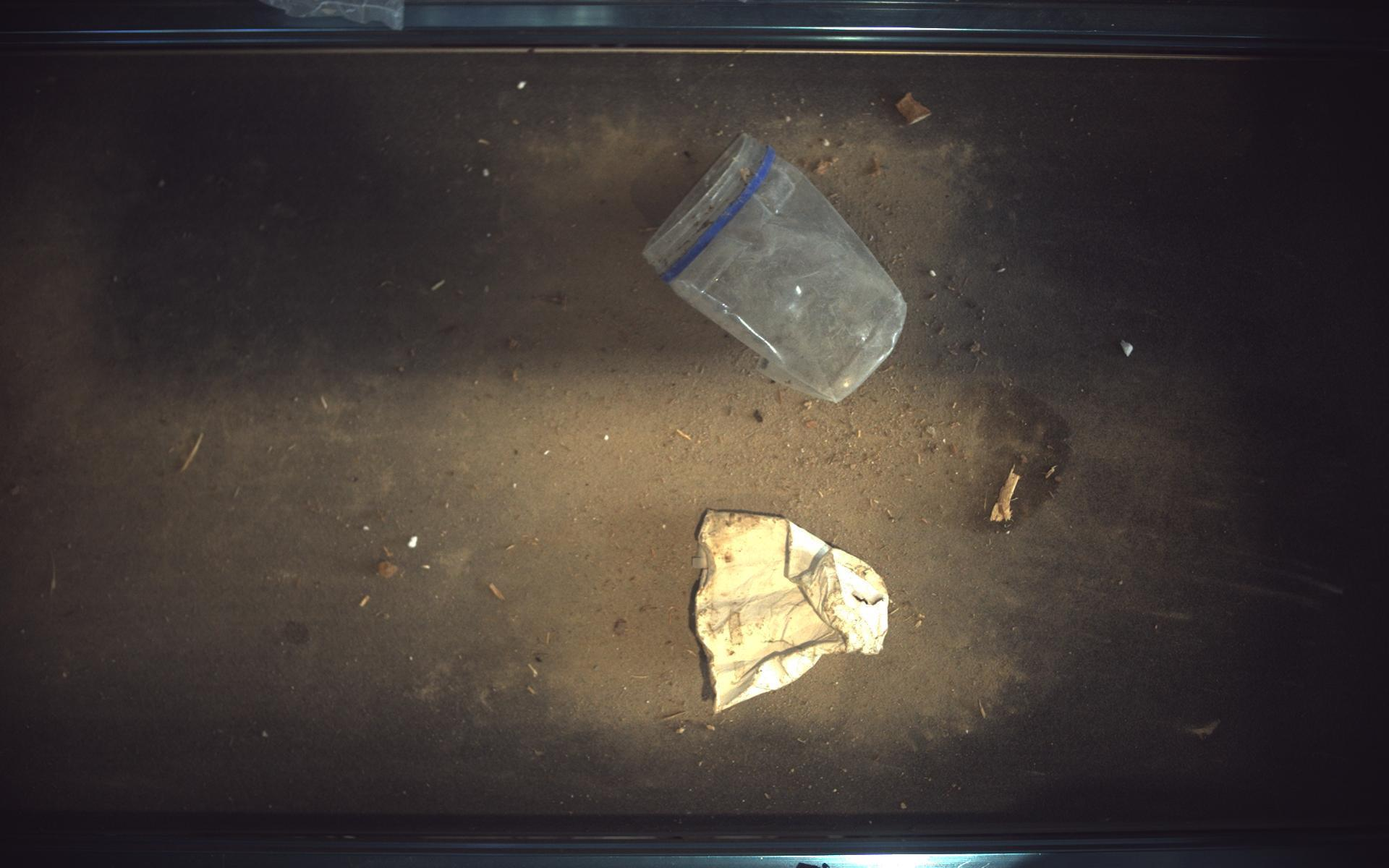general_w: (644, 132, 907, 401), (695, 511, 891, 713)
